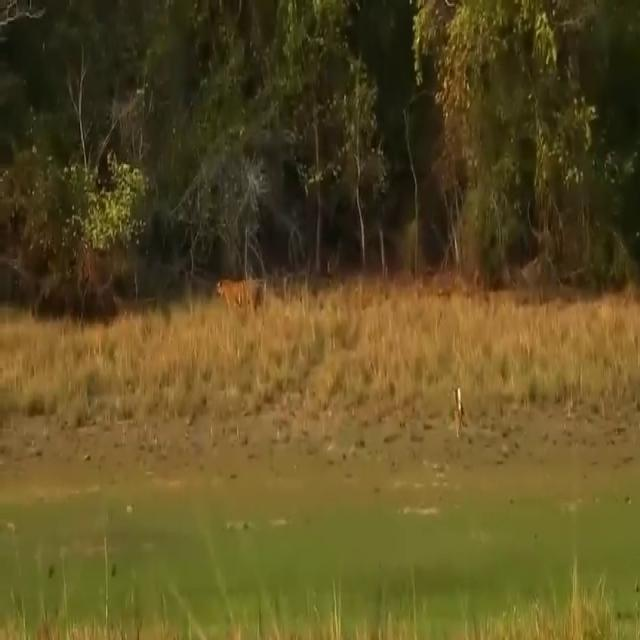tiger: (217, 279, 265, 319)
